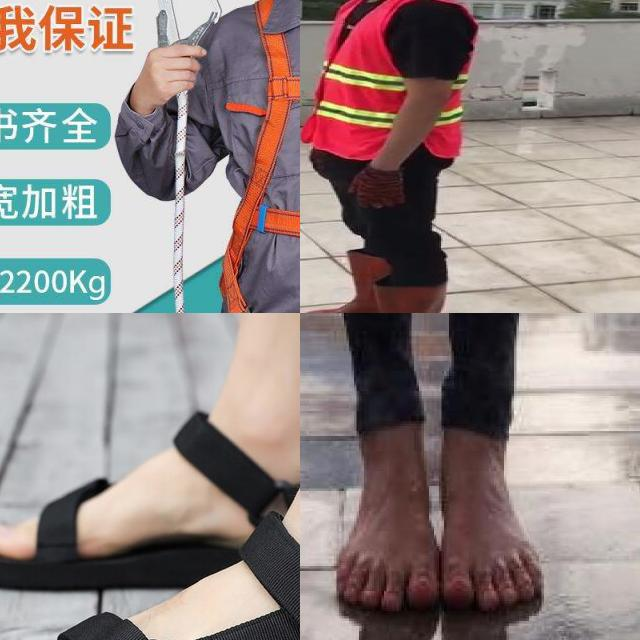Barefoots: (440, 380, 562, 620), (332, 375, 434, 620)
Harness: (229, 0, 300, 313)
Sandals: (0, 458, 300, 640)
boots: (302, 251, 389, 313), (329, 285, 448, 313)
person: (300, 0, 485, 313)
vest: (307, 0, 471, 161)
